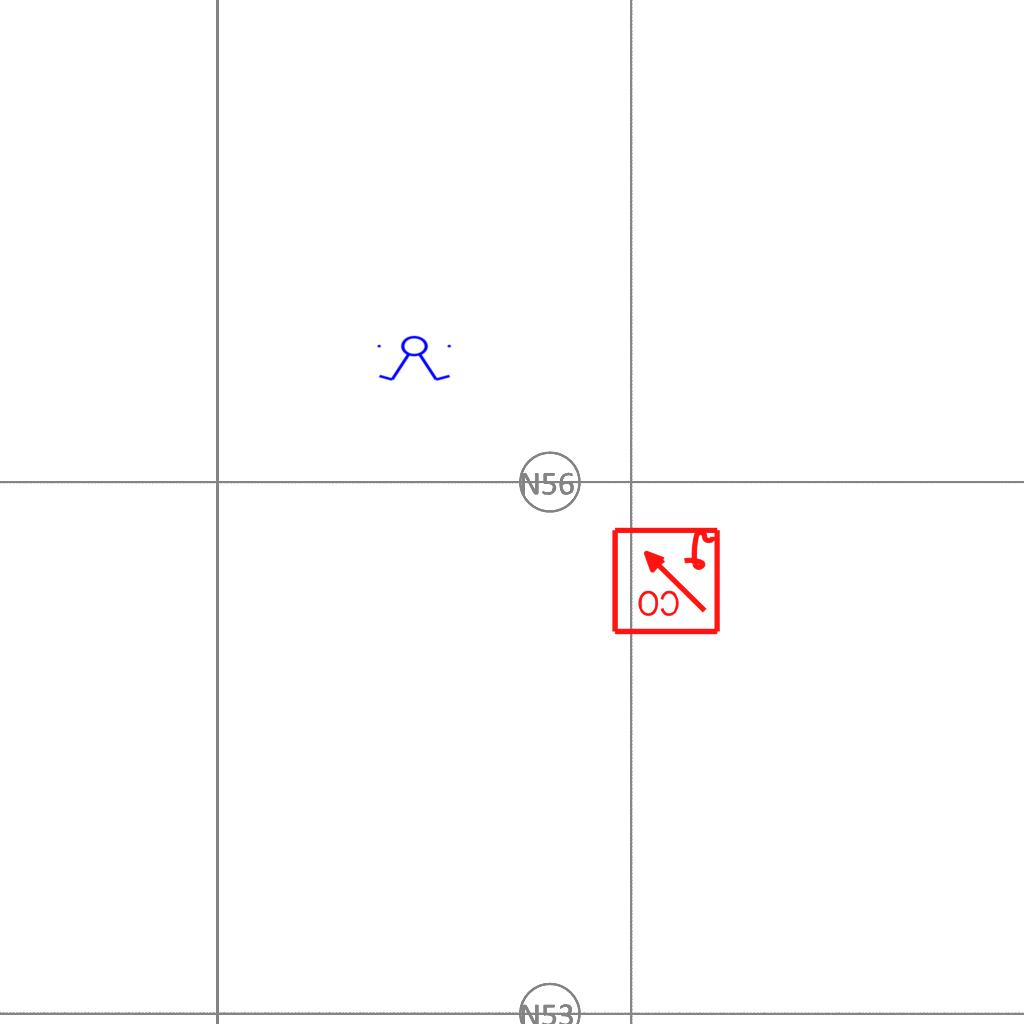ROA_Rauchmelder_optisch_mit_Signalgeber_(Sockelsirene): (609, 523, 722, 636)
Serienschalter: (373, 335, 457, 383)
